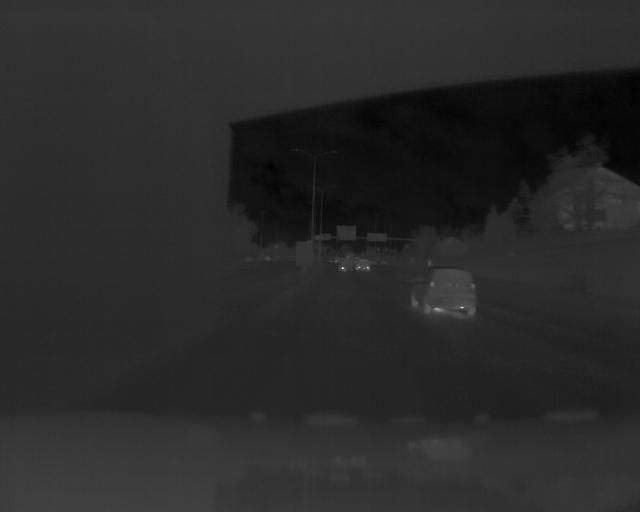car: (409, 263, 480, 320), (353, 256, 373, 272)
